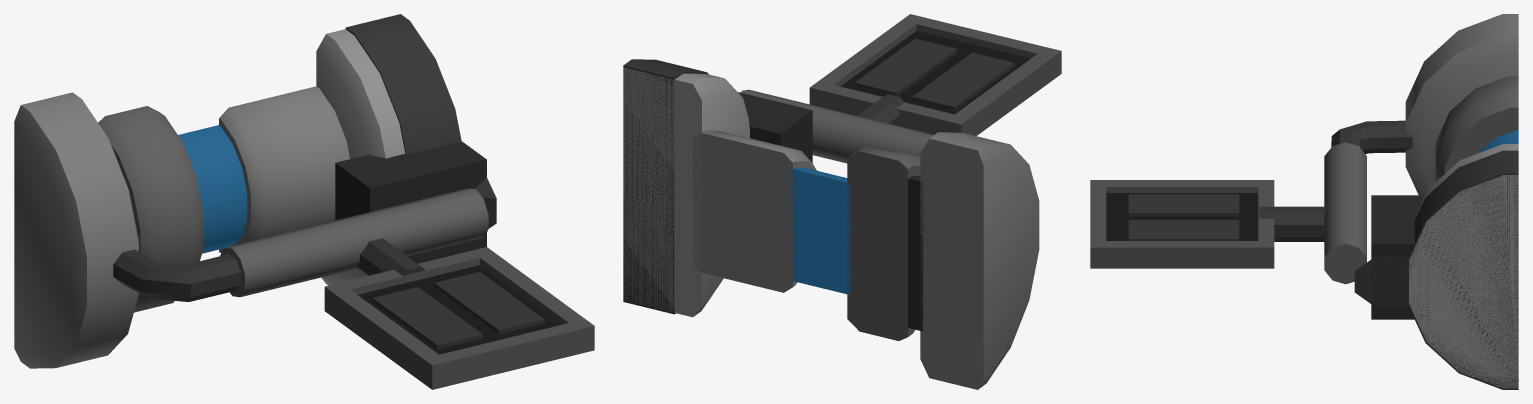
File: newshl-45.glb
3 views of the same model, side by side, from view 1: azimuth 30°, elevation 25°; view 2: azimuth 150°, elevation 25°; view 3: azimuth 270°, elevation 25° (orthographic). The views are drawn at different scales.
Visible parts, largest first — view 1: newshl-45; view 2: newshl-45; view 3: newshl-45.
Part boxes in pixels (<box>): newshl-45: <box>14,14,594,389</box>; newshl-45: <box>623,14,1061,389</box>; newshl-45: <box>1090,14,1518,389</box>.
Bounding box in the file's own units: 1.98 × 1.26 × 2.23.
